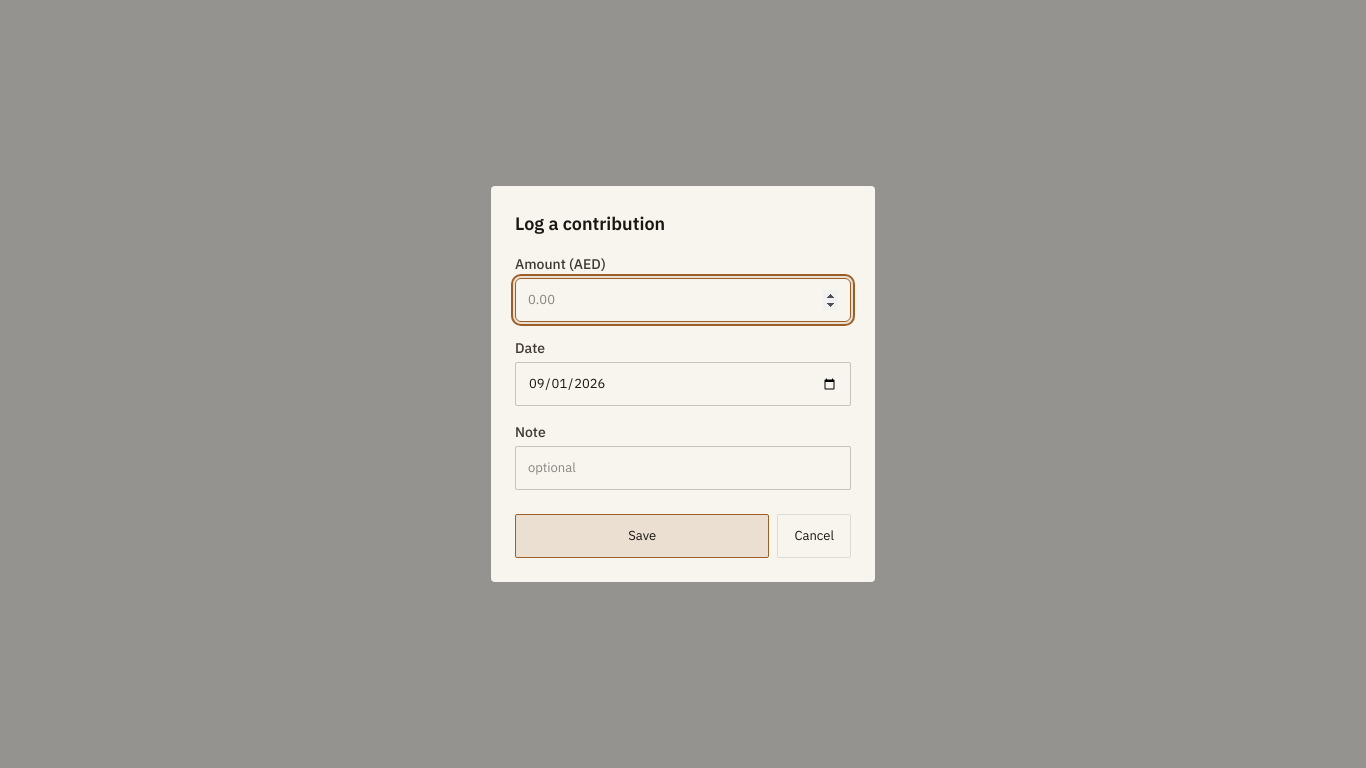
it: ContributionForm action footer › preserves the rejected-save error and finally restores the Save control
Type "25" into the number field labelled "Amount (AED)". click: (683, 300)
box: [515,278,851,322]
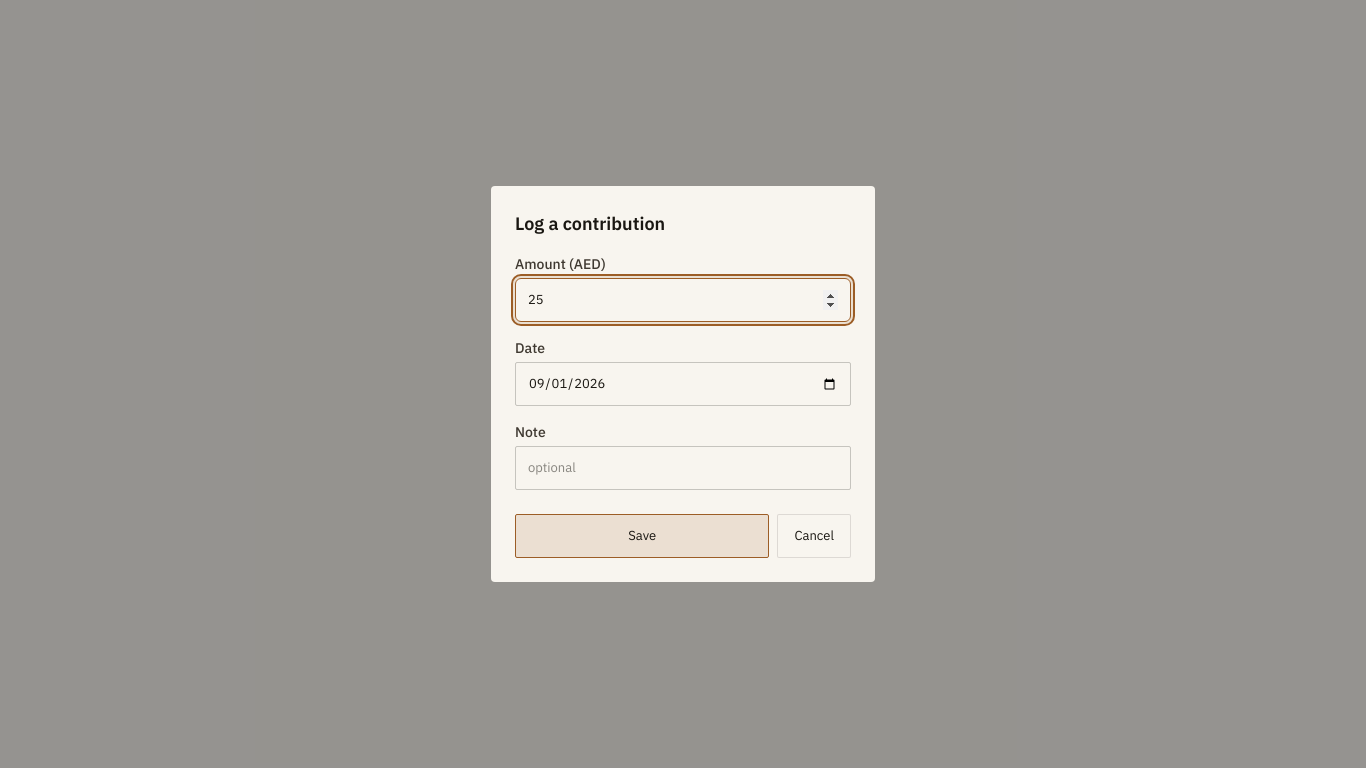
Click the button "Save". click: (642, 536)
box: [515,514,770,558]
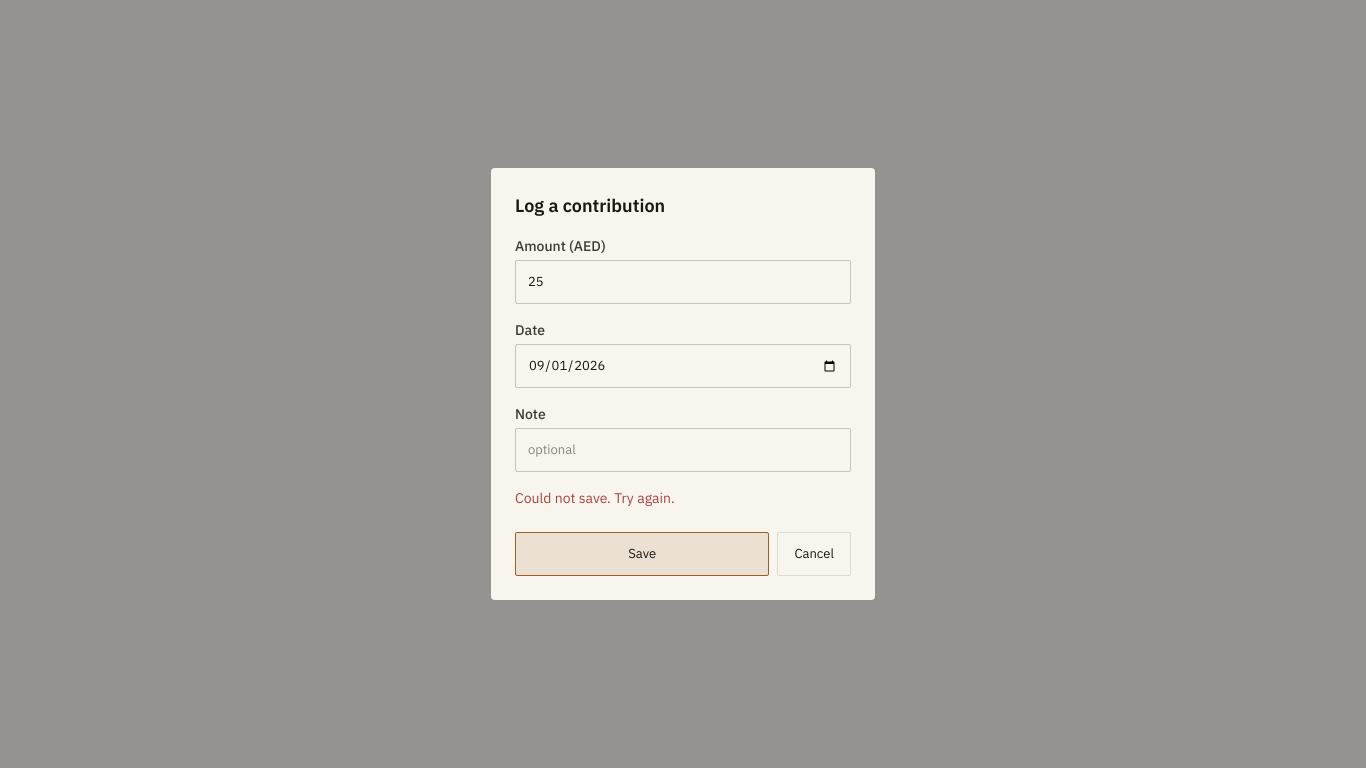
expect the button "Save" is enabled: met, box [515,532,770,576]
expect the text "Could not save. Try again." is shown: met, box [515,489,675,507]
